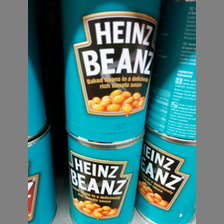beans: (63, 1, 154, 143), (59, 132, 147, 224), (141, 124, 200, 224)
